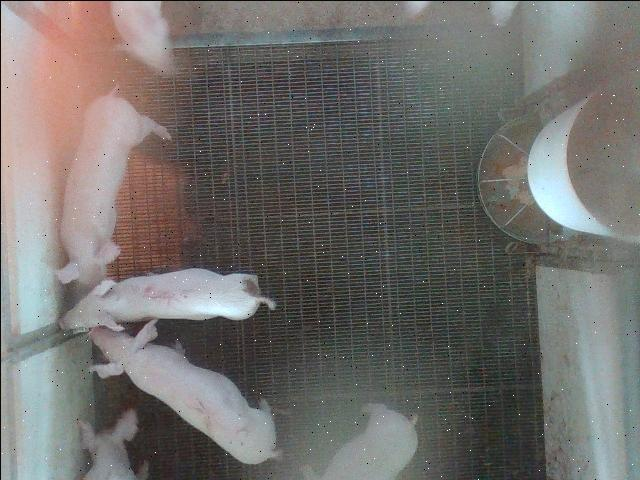pig-5: (58, 268, 275, 330)
